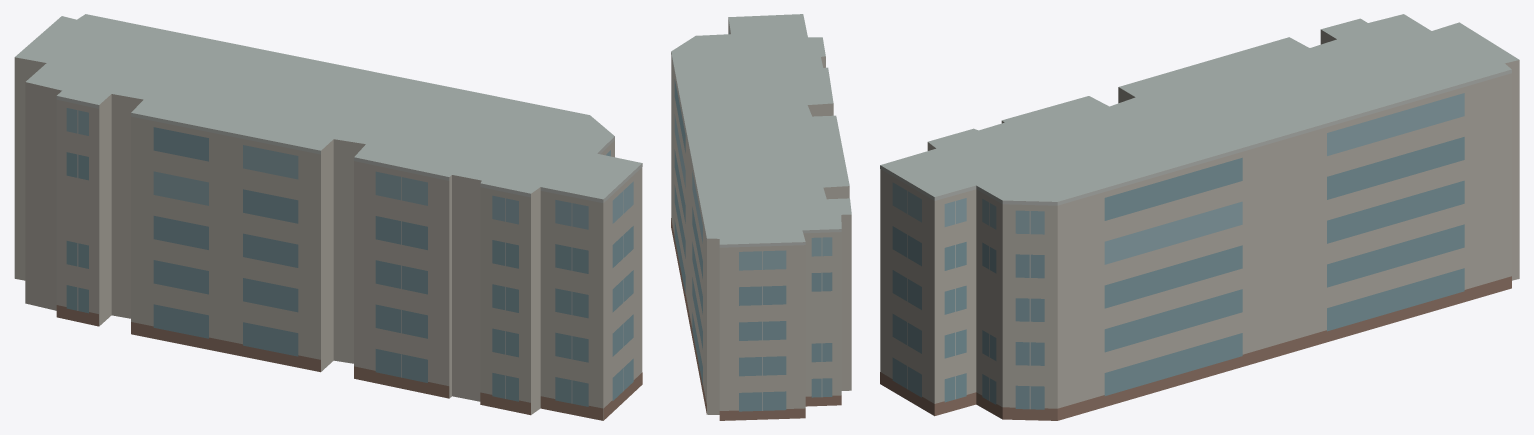
The model's file is survey-upis-32605046.glb.
The picture shows the model from 3 angles, left to right: view 1: azimuth 30°, elevation 25°; view 2: azimuth 150°, elevation 25°; view 3: azimuth 270°, elevation 25°; orthographic projection. The views are drawn at different scales.
Visible parts, largest first — view 1: survey-upis-32605046.tmp; view 2: survey-upis-32605046.tmp; view 3: survey-upis-32605046.tmp.
Boxes of the visible parts, x1,y1,x2,y2 form: survey-upis-32605046.tmp: [14, 14, 642, 420]; survey-upis-32605046.tmp: [671, 14, 851, 420]; survey-upis-32605046.tmp: [880, 14, 1519, 420].
Bounding box in the file's own units: 25.96 × 14.1 × 37.33.
